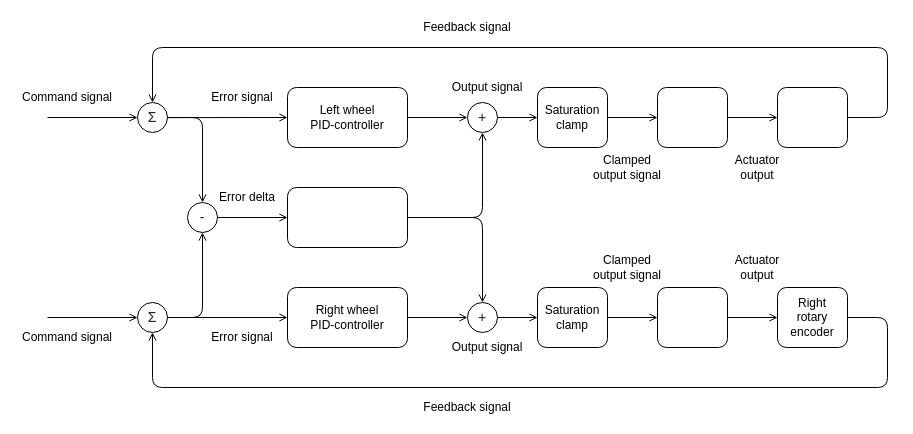
Some shapes in this 913 by 434 pixel diagram are drawn without their labels. Each missing label, with the centre of its shape:
"Error delta PD-controller" goes at pixel 347 217.
"Left motor" goes at pixel 692 117.
"Left rotary encoder" goes at pixel 812 117.
"Right motor" goes at pixel 692 317.
